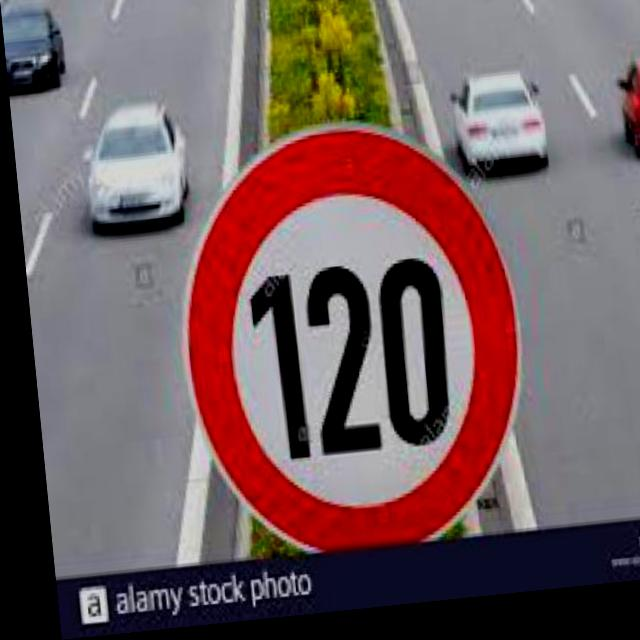limit120: (153, 113, 534, 582)
